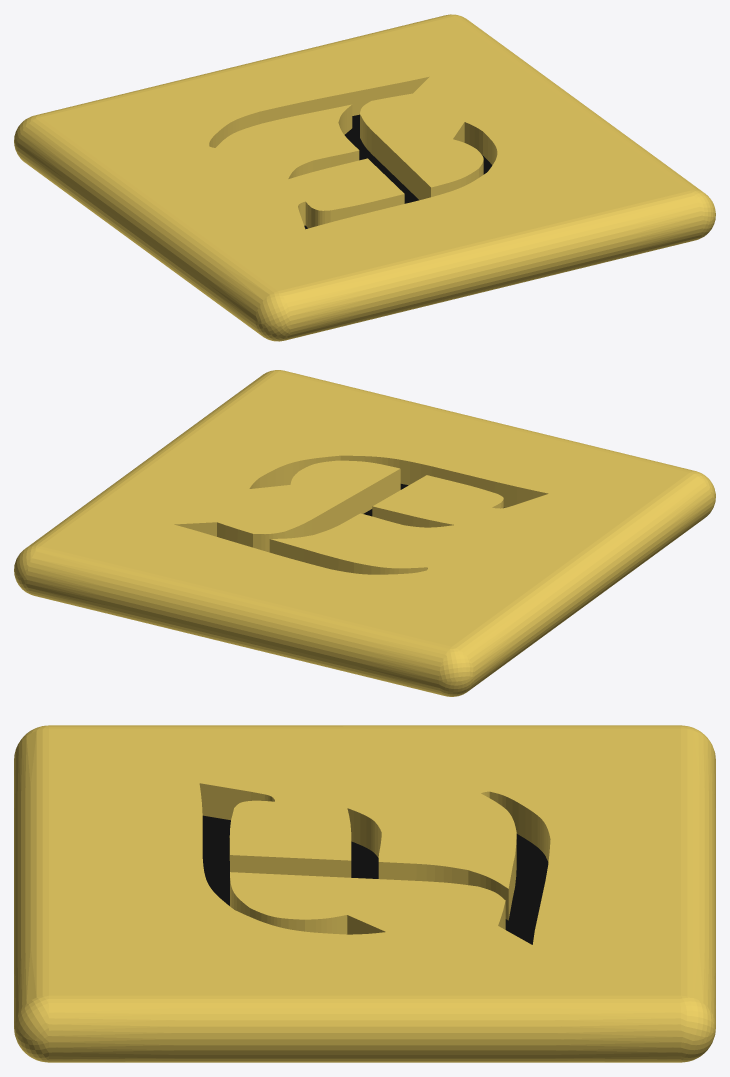
File: tile-E.glb
The picture shows the model from 3 angles, top to bottom: view 1: azimuth 30°, elevation 25°; view 2: azimuth 150°, elevation 25°; view 3: azimuth 270°, elevation 25°; orthographic projection. The views are drawn at different scales.
Parts seen in each view (by area): view 1: tile-puzzle-E v1; view 2: tile-puzzle-E v1; view 3: tile-puzzle-E v1.
Boxes of the visible parts, left/top/right/bottom form: tile-puzzle-E v1: left=14, top=14, right=715, bottom=341; tile-puzzle-E v1: left=14, top=370, right=715, bottom=696; tile-puzzle-E v1: left=14, top=725, right=715, bottom=1062.
Bounding box in the file's own units: 40 × 4 × 40.
